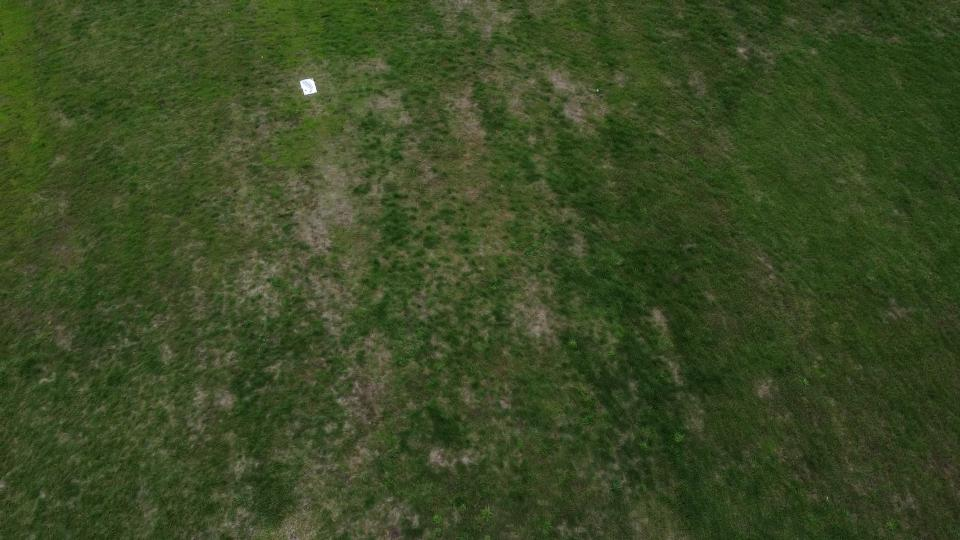zebra_single: (302, 80, 314, 94)
